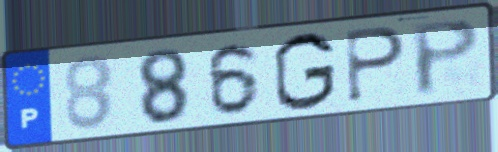6: (206, 40, 263, 117)
8: (132, 45, 192, 126), (61, 52, 119, 135)
G: (270, 30, 338, 113)
P: (408, 16, 484, 99), (343, 24, 409, 105)
